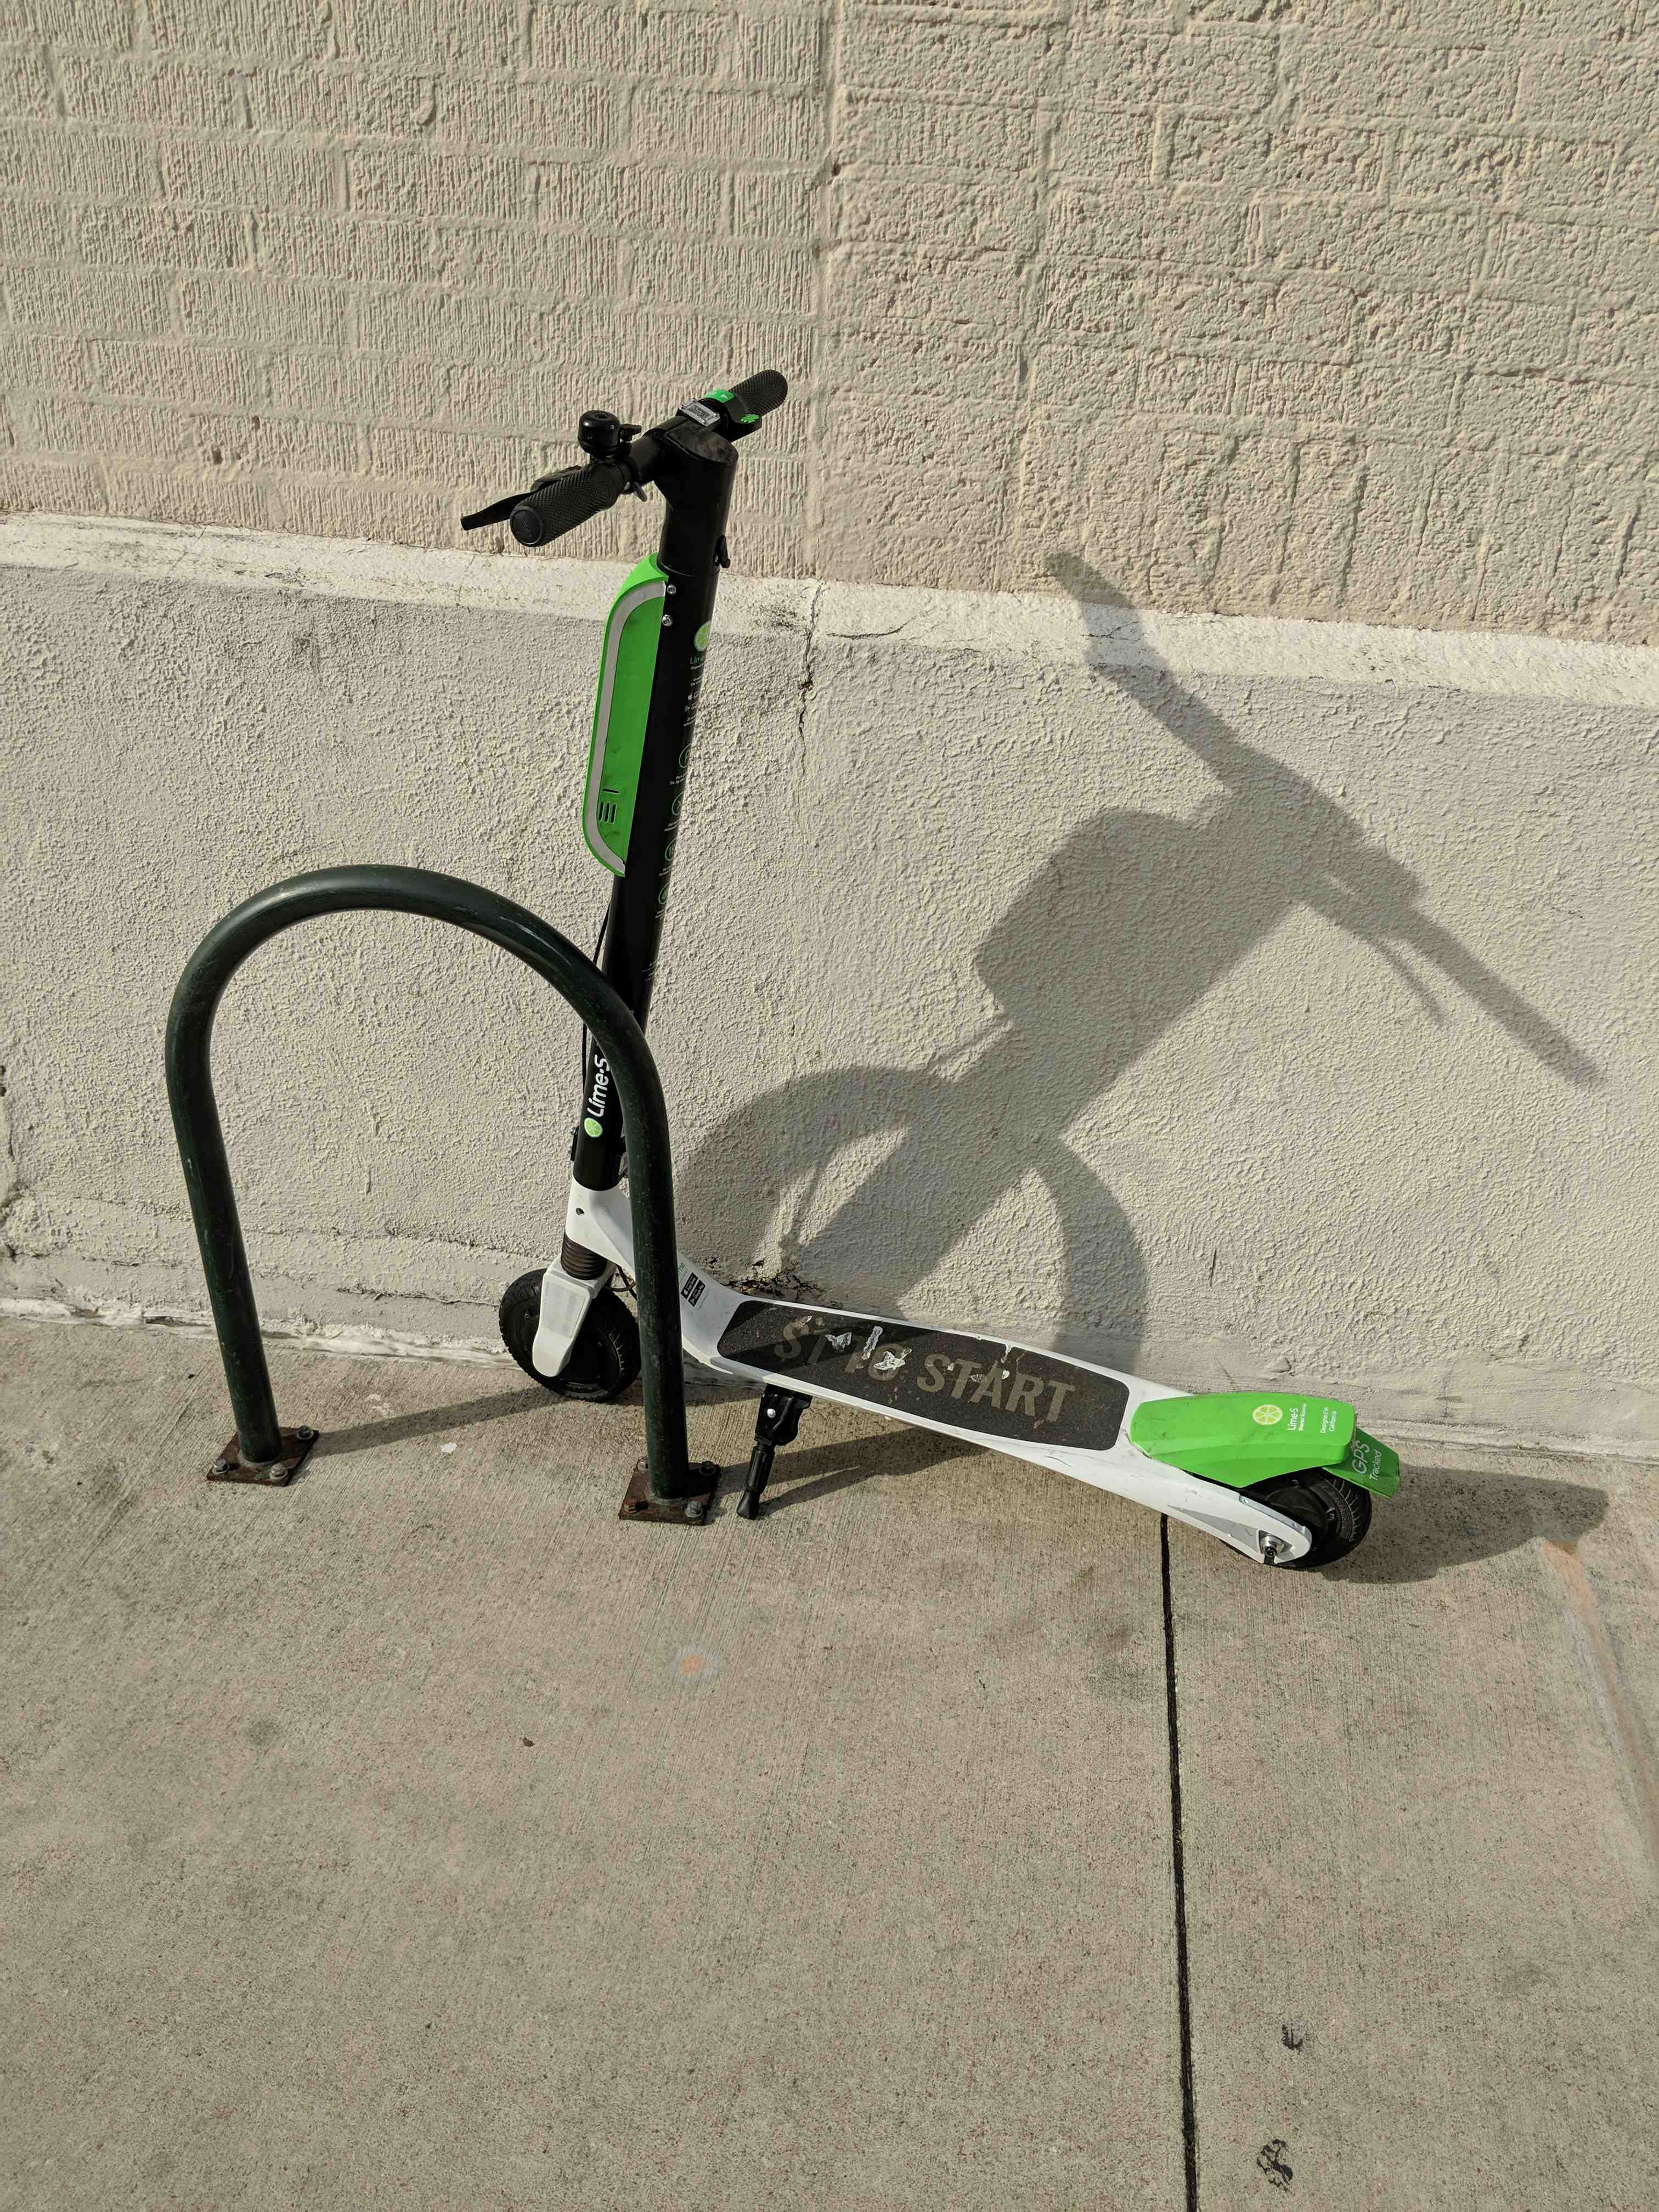scooter: (460, 338, 1446, 1581)
